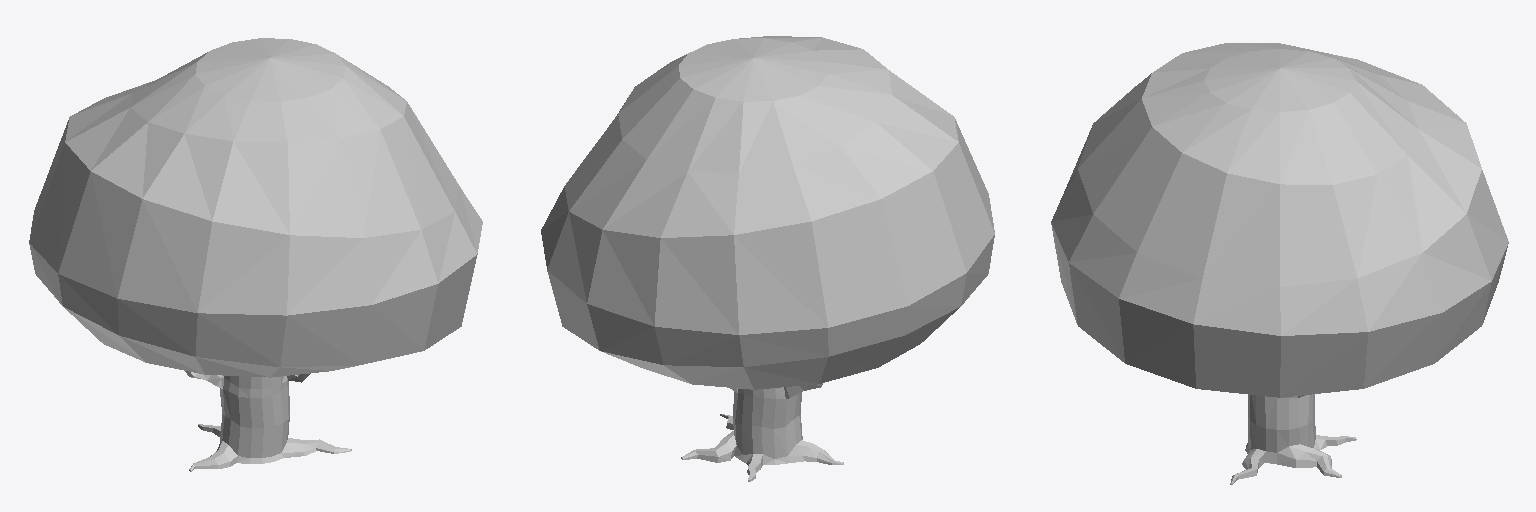
Rendered from CartoonTree.obj.
3 views of the same model, side by side, from view 1: azimuth 30°, elevation 25°; view 2: azimuth 150°, elevation 25°; view 3: azimuth 270°, elevation 25° (orthographic).
Bounding box in the file's own units: 2.69 × 2.52 × 2.69.